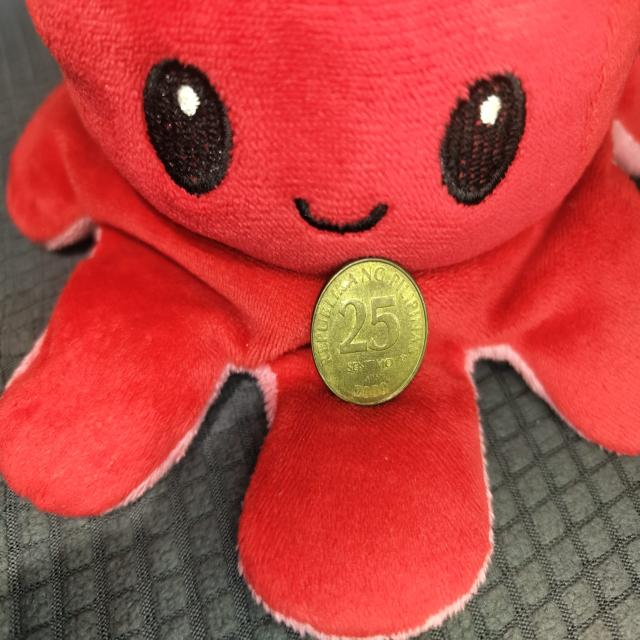25 cents-old: (305, 248, 433, 418)
